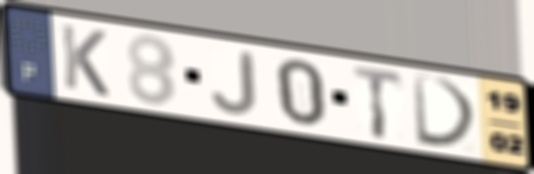0: (272, 57, 329, 128)
8: (125, 32, 179, 109)
D: (410, 71, 482, 151)
J: (208, 49, 260, 117)
K: (58, 21, 112, 100)
T: (350, 63, 407, 142)
